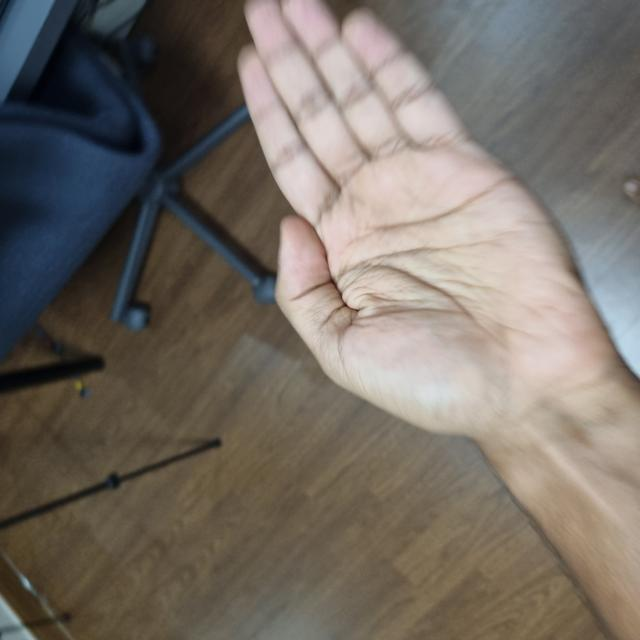Paper: (213, 242, 640, 601)
